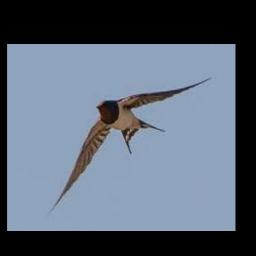Swallow: (47, 78, 212, 216)
